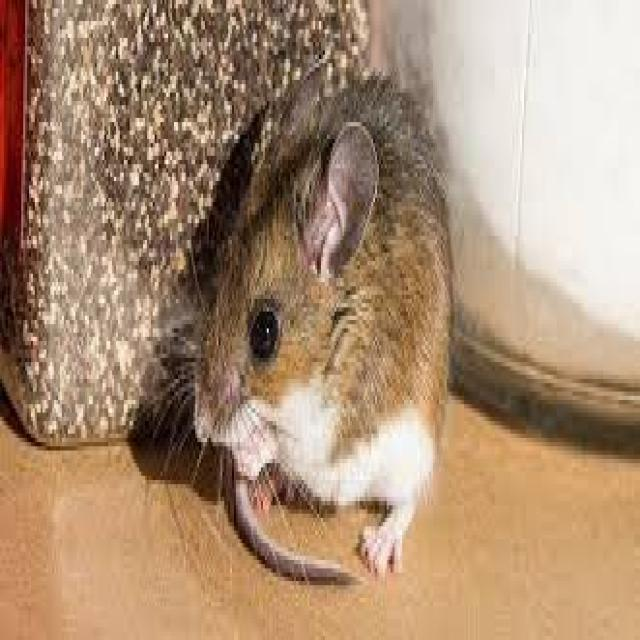Mouse: (190, 73, 453, 565)
